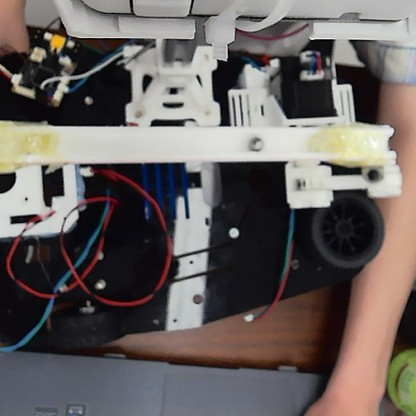ironball: (247, 132, 264, 152)
